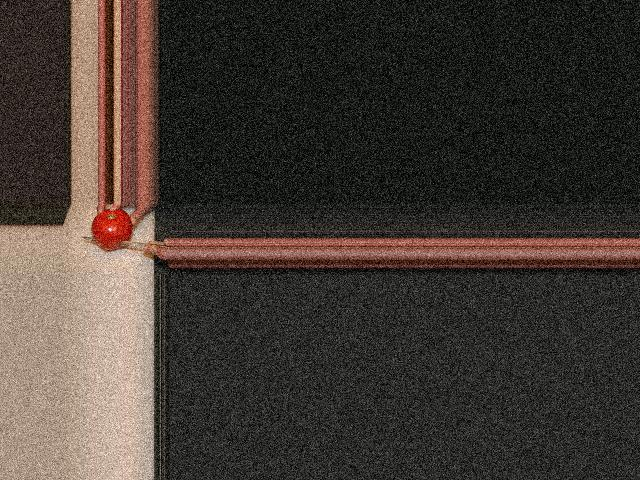tomato: (90, 208, 132, 250)
